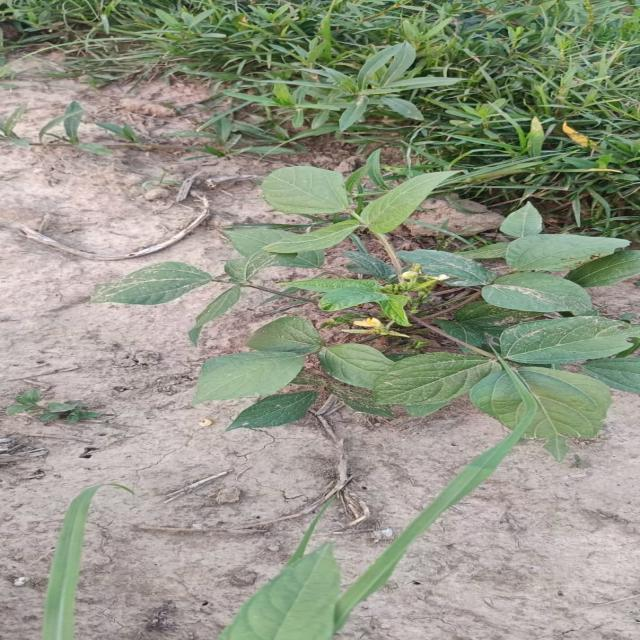plant: (91, 166, 639, 456)
